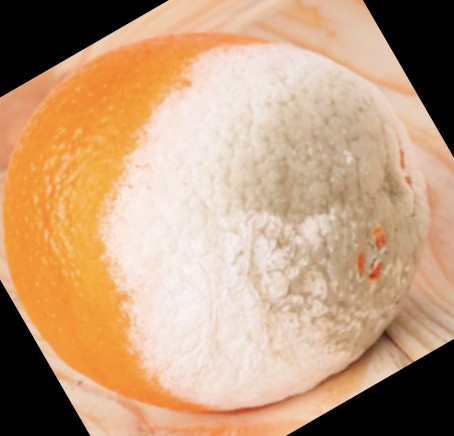rotten_orange: (5, 32, 431, 412)
